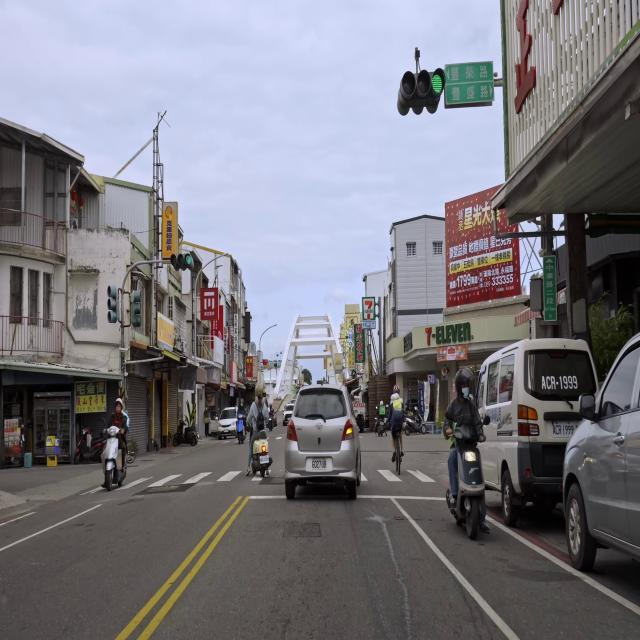green light: (402, 70, 444, 95), (170, 253, 192, 266)
